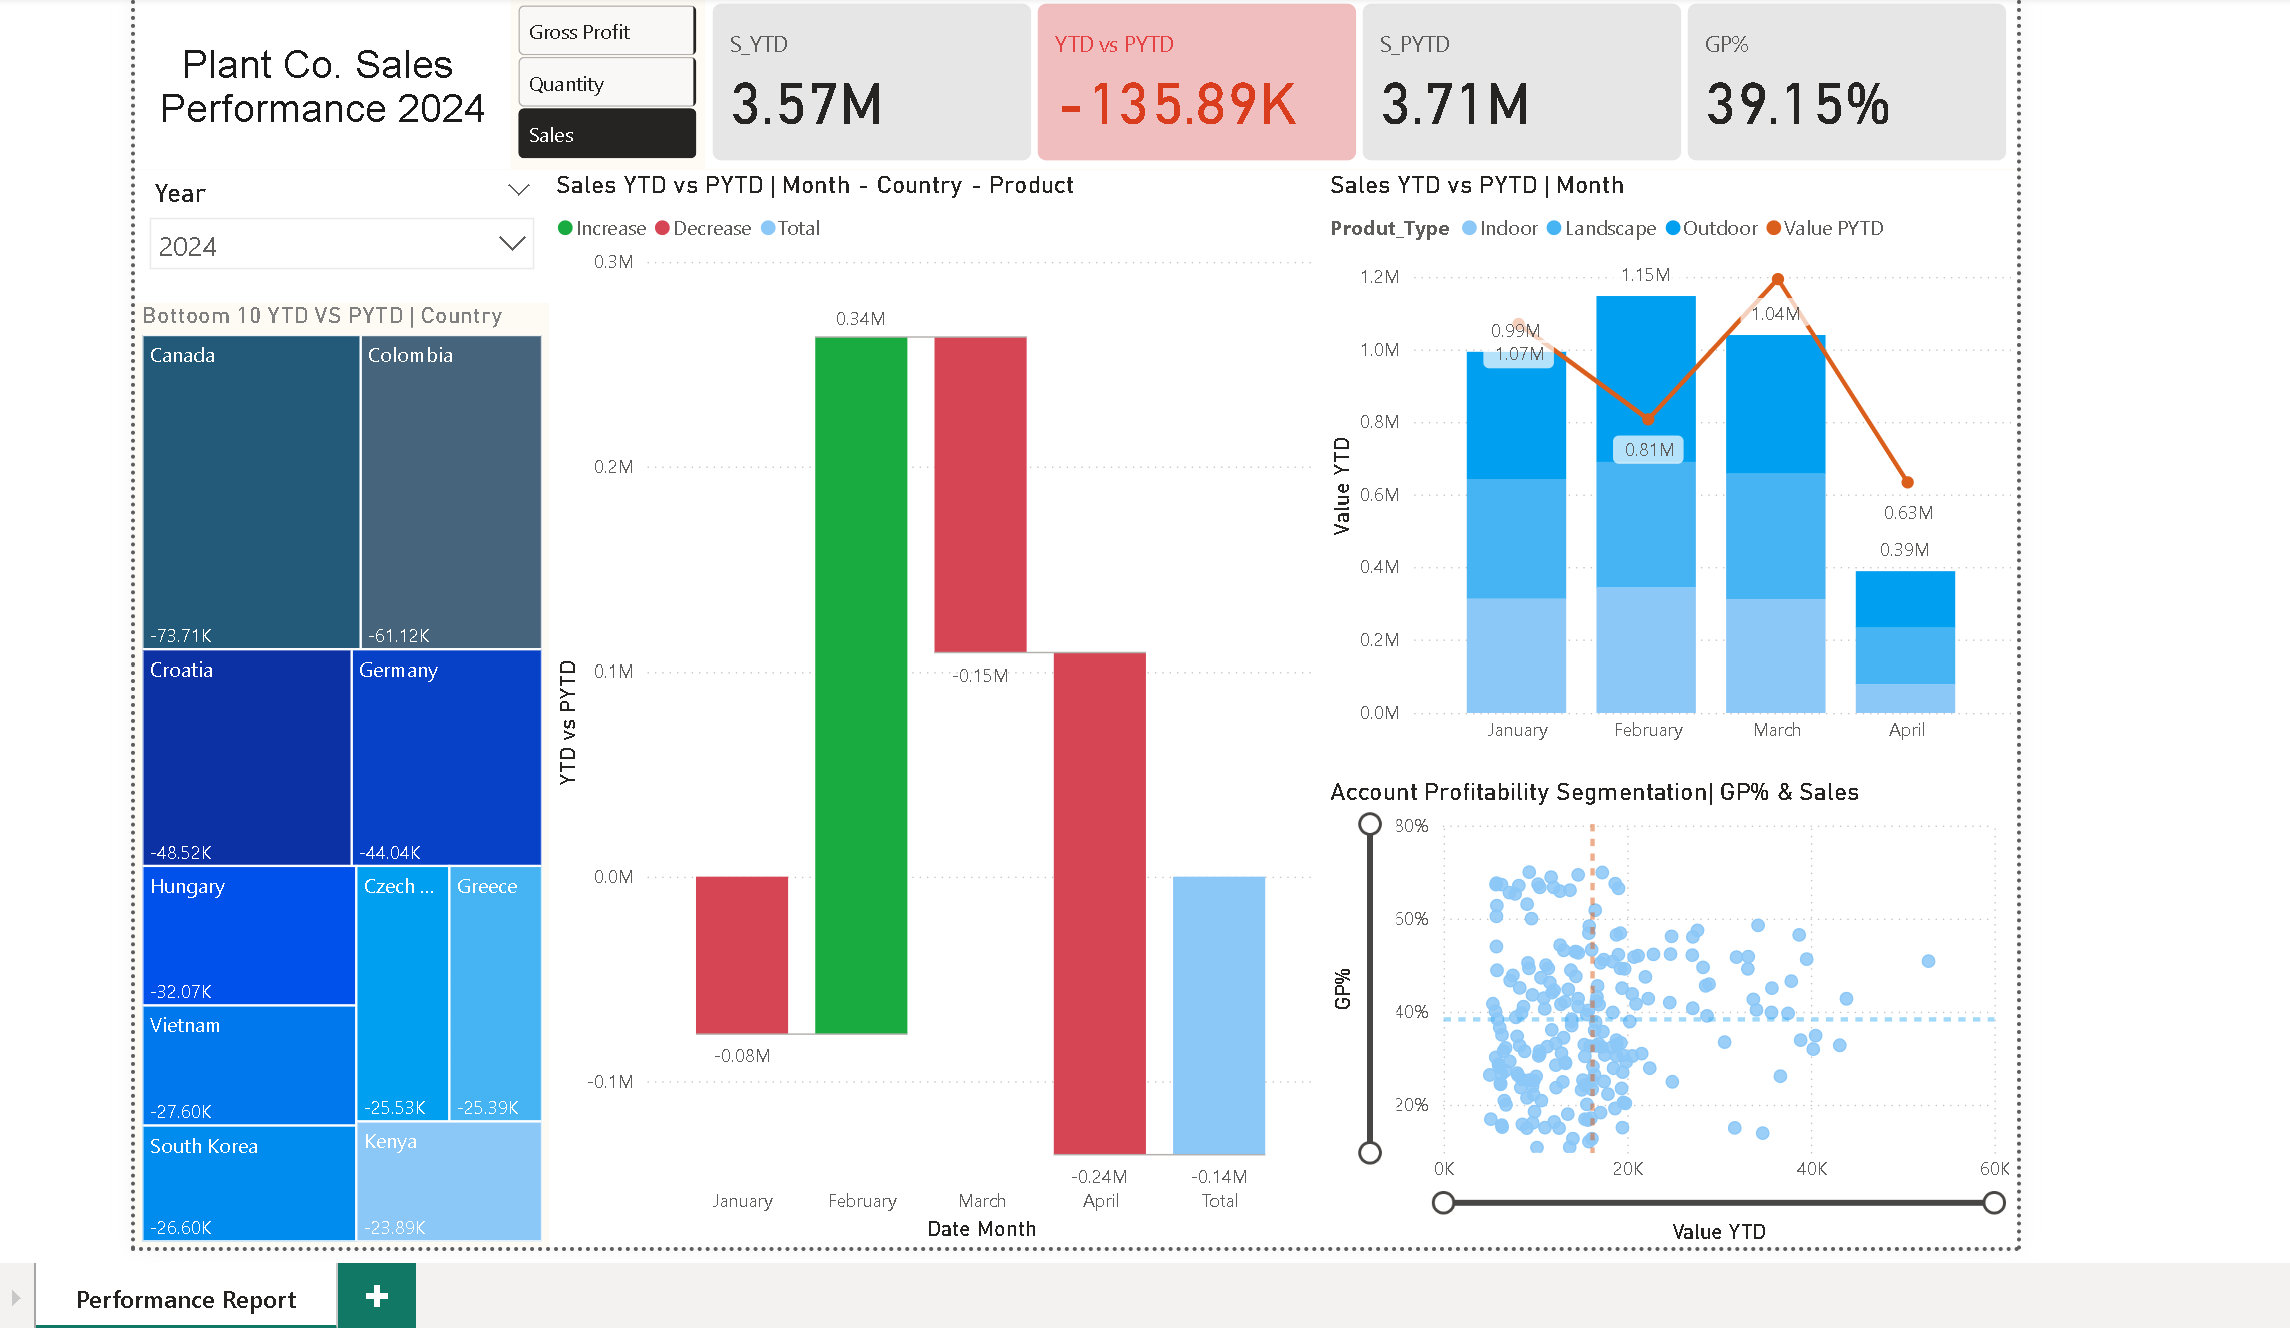

The dashboard page shown, as its layout file describes it:
{"tool":"powerbi","page":{"name":"Performance Report","canvas":[1280,850],"ordinal":0},"visuals":[{"type":"cardVisual","fields":{"Data":["_Measures.S_YTD","_Measures.YTD vs PYTD","_Measures.S_PYTD","_Measures.GP%"]},"box":[387.6,0,892.4,117.3],"z":0},{"type":"advancedSlicerVisual","fields":{"Values":["Slc_values.Values"]},"box":[255.7,1.5,131.7,116.4],"z":1000},{"type":"slicer","fields":{"Values":["dim_Date.Date.Variation.Date Hierarchy.Year"]},"box":[0,117.9,281.7,90.3],"z":2000},{"type":"treemap","title":"Bottoom 10 YTD VS PYTD | Country","fields":{"Values":["_Measures.YTD vs PYTD"],"Group":["dim_Account.country"]},"box":[0,208.2,281.7,643.1],"z":3000},{"type":"waterfallChart","fields":{"Y":["_Measures.YTD vs PYTD"],"Category":["dim_Date.Date.Variation.Date Hierarchy.Month","dim_Account.country","dim_products.Produt_Type","dim_products.Product_Name"]},"box":[281.7,117.9,526.7,731.9],"z":4000},{"type":"lineStackedColumnComboChart","fields":{"Y":["_Measures.S_YTD"],"Y2":["_Measures.S_PYTD"],"Category":["dim_Date.Date.Variation.Date Hierarchy.Quarter","dim_Date.Date.Variation.Date Hierarchy.Month"],"Series":["dim_products.Produt_Type"]},"box":[808.4,117.9,473.1,411.9],"z":5000},{"type":"scatterChart","fields":{"Y":["_Measures.GP%"],"X":["_Measures.S_YTD"],"Category":["dim_Account.Account"]},"box":[808.4,529.8,471.6,321.5],"z":6000},{"type":"card","fields":{"Values":["_Measures._Report title"]},"box":[0,1.5,255.7,116.4],"z":7000}]}

Visuals, with their boxes on the page's 1280x850 design canvas (x1, y1, x2, y2). These are canvas units, not pixel positions in the 2290x1328 screenshot, which may show the page scaled, cropped or inside an application window:
cardVisual - _Measures.S_YTD x _Measures.YTD vs PYTD: 388/0/1280/117
advancedSlicerVisual - Slc_values.Values: 256/2/387/118
slicer - dim_Date.Date.Variation.Date Hierarchy.Year: 0/118/282/208
"Bottoom 10 YTD VS PYTD | Country" treemap: 0/208/282/851
waterfallChart - _Measures.YTD vs PYTD x dim_Date.Date.Variation.Date Hierarchy.Month: 282/118/808/850
lineStackedColumnComboChart - _Measures.S_YTD x _Measures.S_PYTD: 808/118/1282/530
scatterChart - _Measures.GP% x _Measures.S_YTD: 808/530/1280/851
card - _Measures._Report title: 0/2/256/118
